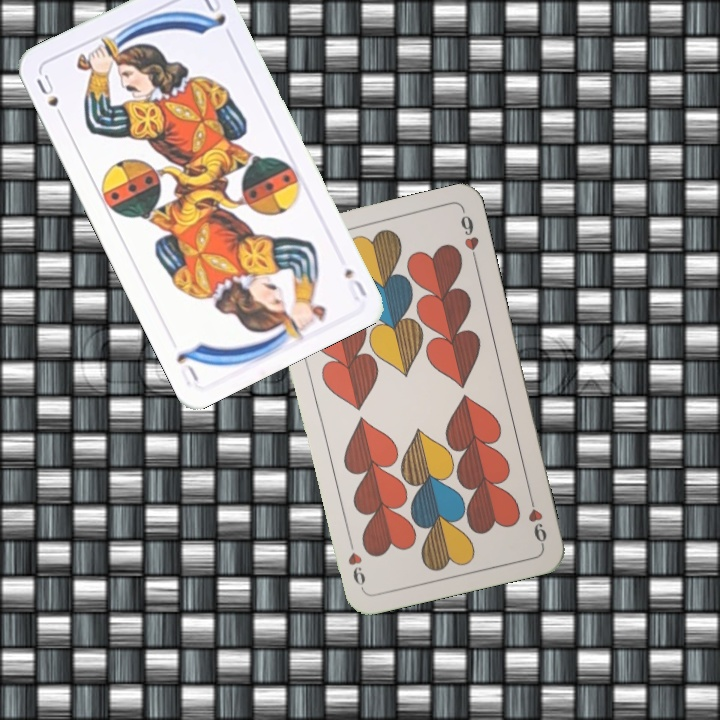H9: (524, 490, 550, 548)
SU: (32, 70, 68, 125), (340, 264, 369, 303)
